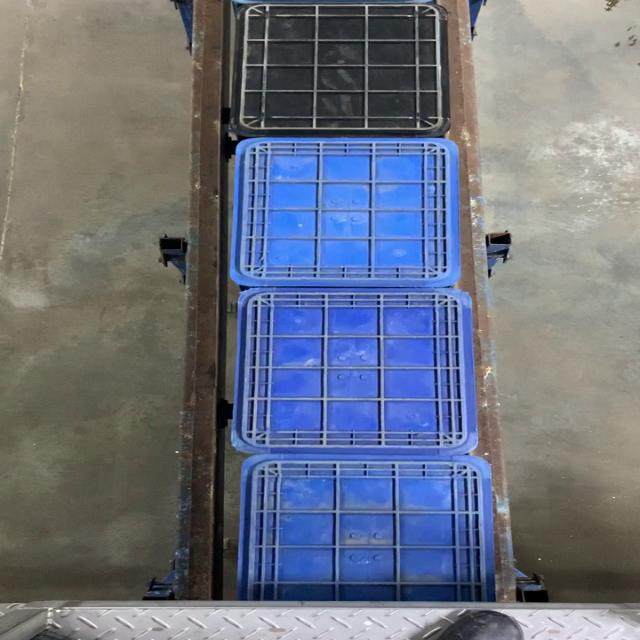Box: (231, 289, 479, 453), (231, 138, 463, 288), (227, 3, 453, 137)
